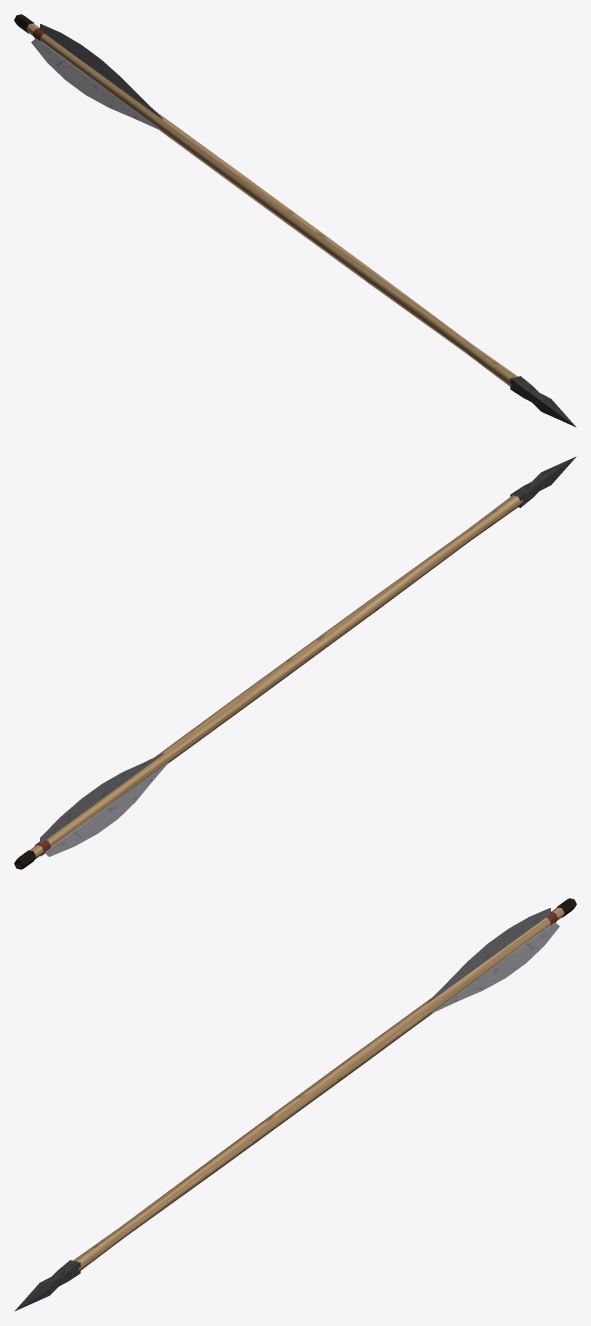
File: Arrow_Battlefield.fbx
3 views of the same model, one above another, from view 1: azimuth 30°, elevation 25°; view 2: azimuth 150°, elevation 25°; view 3: azimuth 330°, elevation 25° (orthographic).
Parts seen in each view (by area): view 1: Arrow_Battlefield; view 2: Arrow_Battlefield; view 3: Arrow_Battlefield.
Part boxes in pixels (box(x1,y1,x2,y2)): Arrow_Battlefield: box(14, 14, 576, 427); Arrow_Battlefield: box(14, 456, 576, 869); Arrow_Battlefield: box(14, 898, 576, 1311).
Bounding box in the file's own units: 0.0958 × 0.0845 × 2.72.
1 material, 1 textured.
